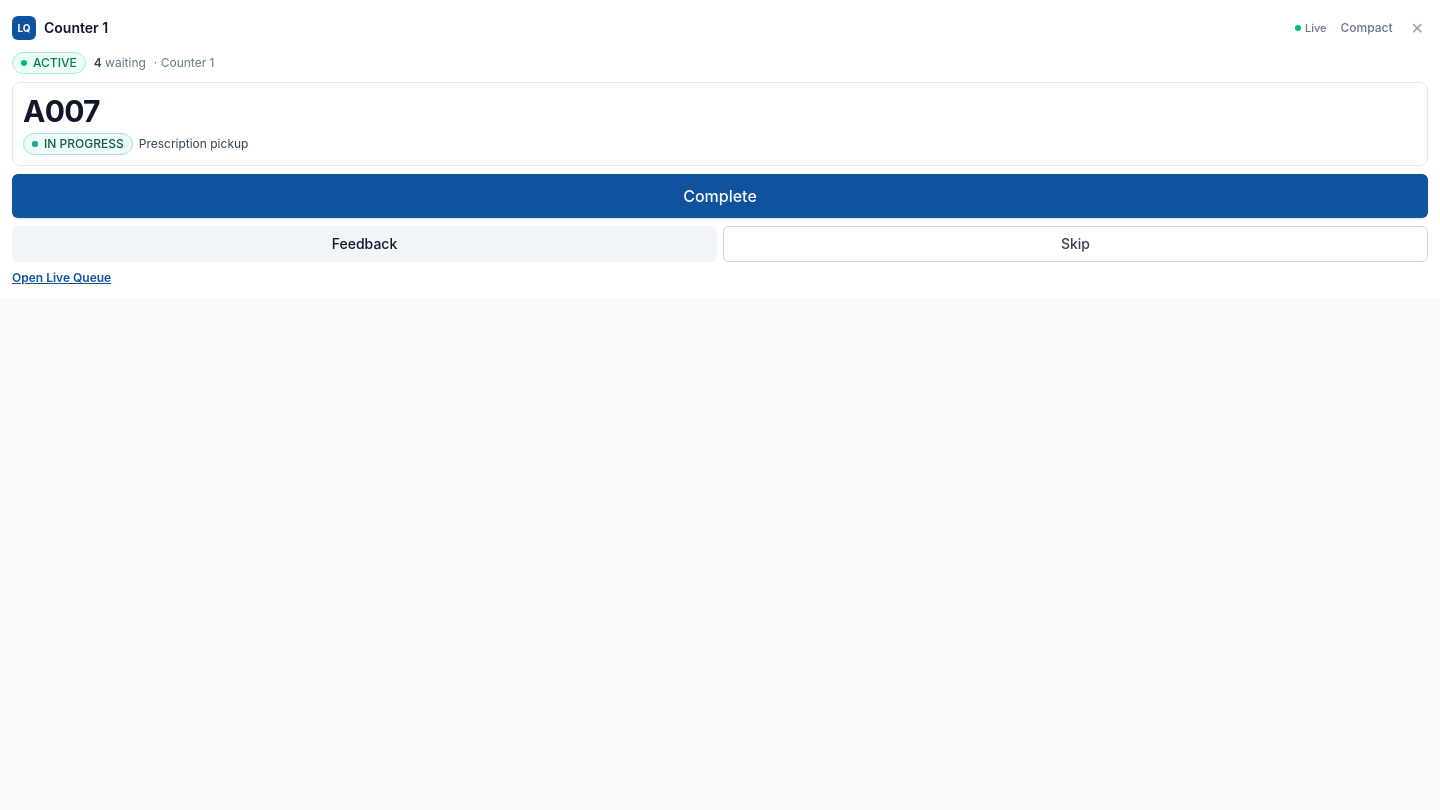
Scenario: Floating Counter Console — compact and expanded › expanded: Skip and Feedback open the existing dialogs
Click the button "Feedback".
click(364, 244)  # box [12,226,717,262]
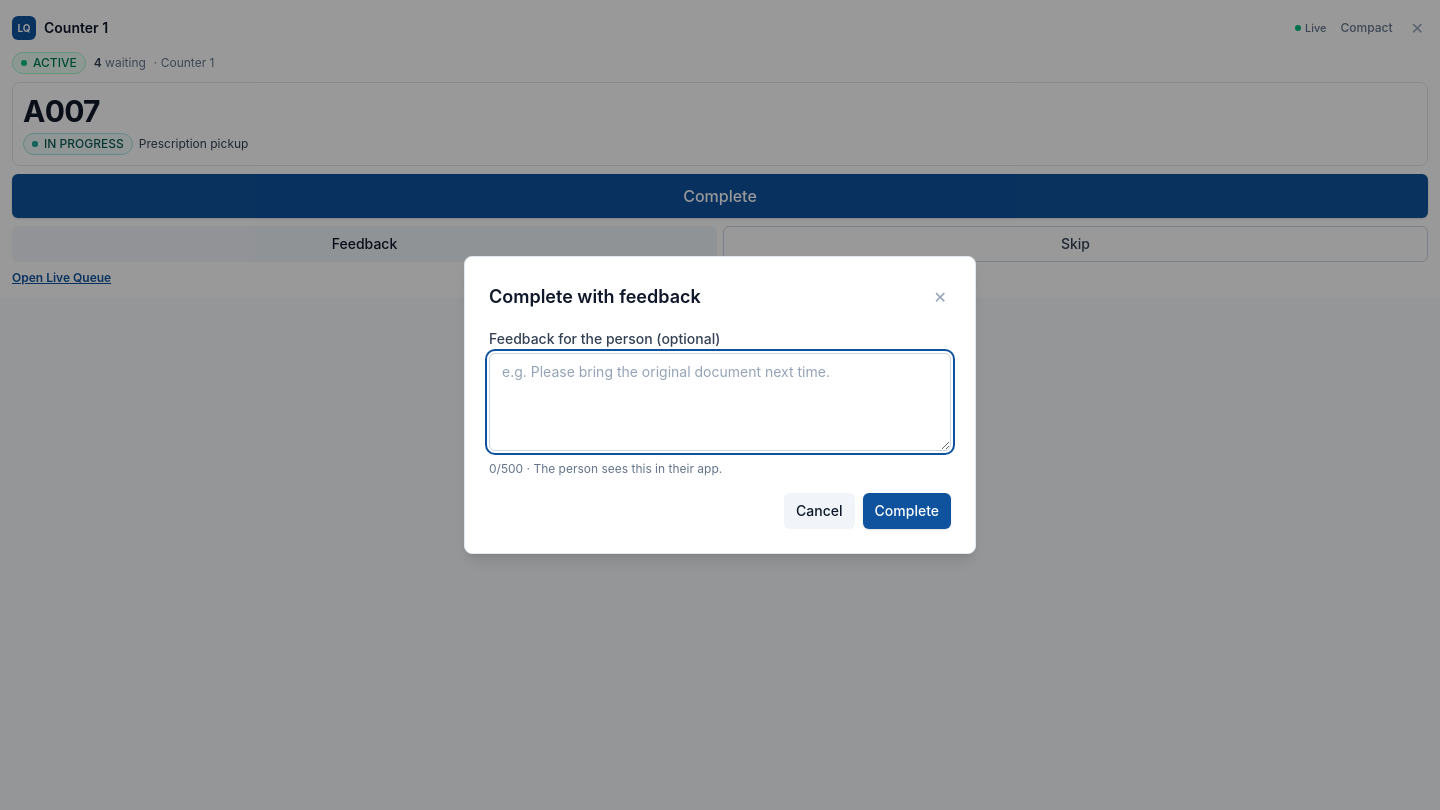
Now the dialog "Complete with feedback" is shown, box [464,256,976,554]
Click the button "Cancel".
click(819, 511)  # box [784,493,855,529]
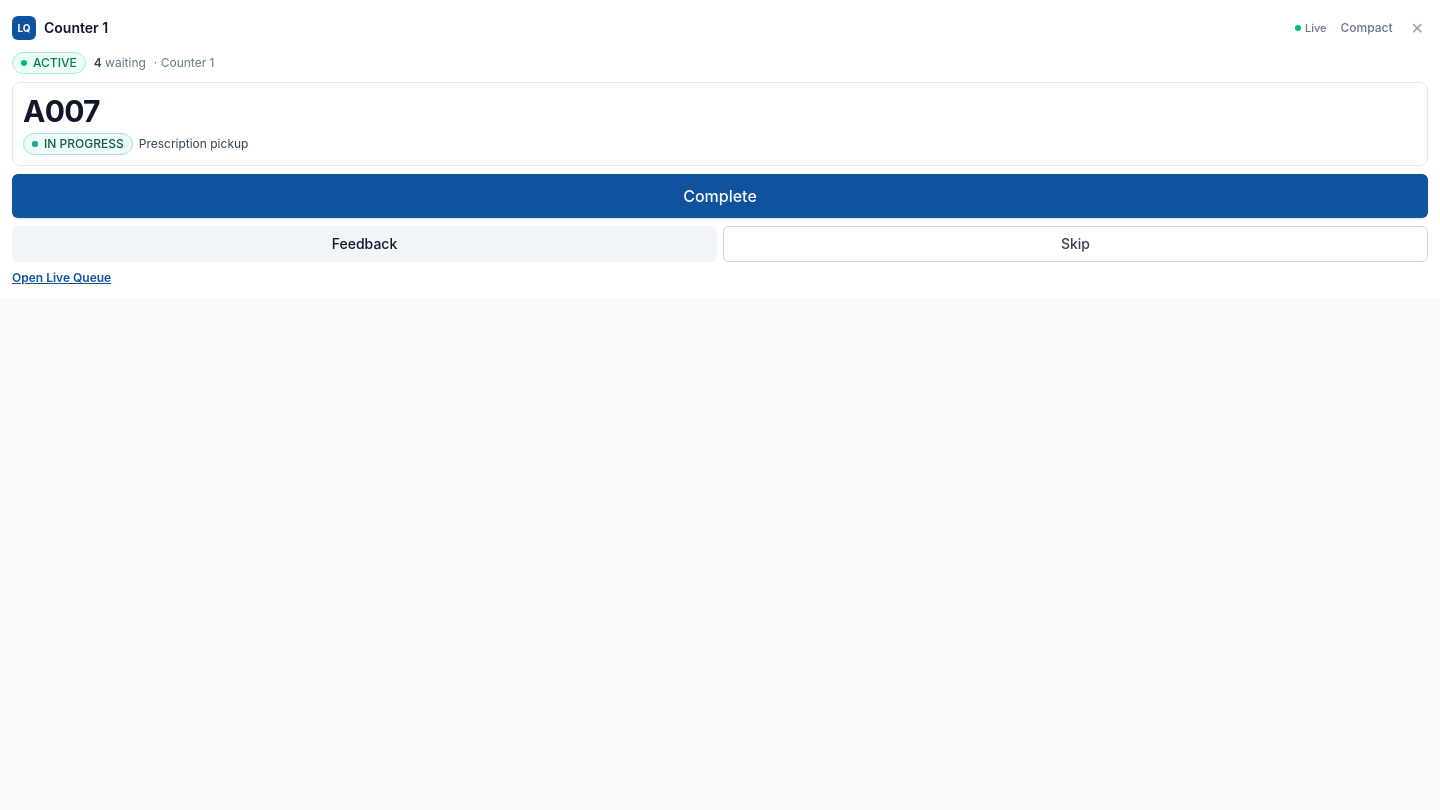
Click the button "Skip".
click(1076, 244)  # box [723,226,1428,262]
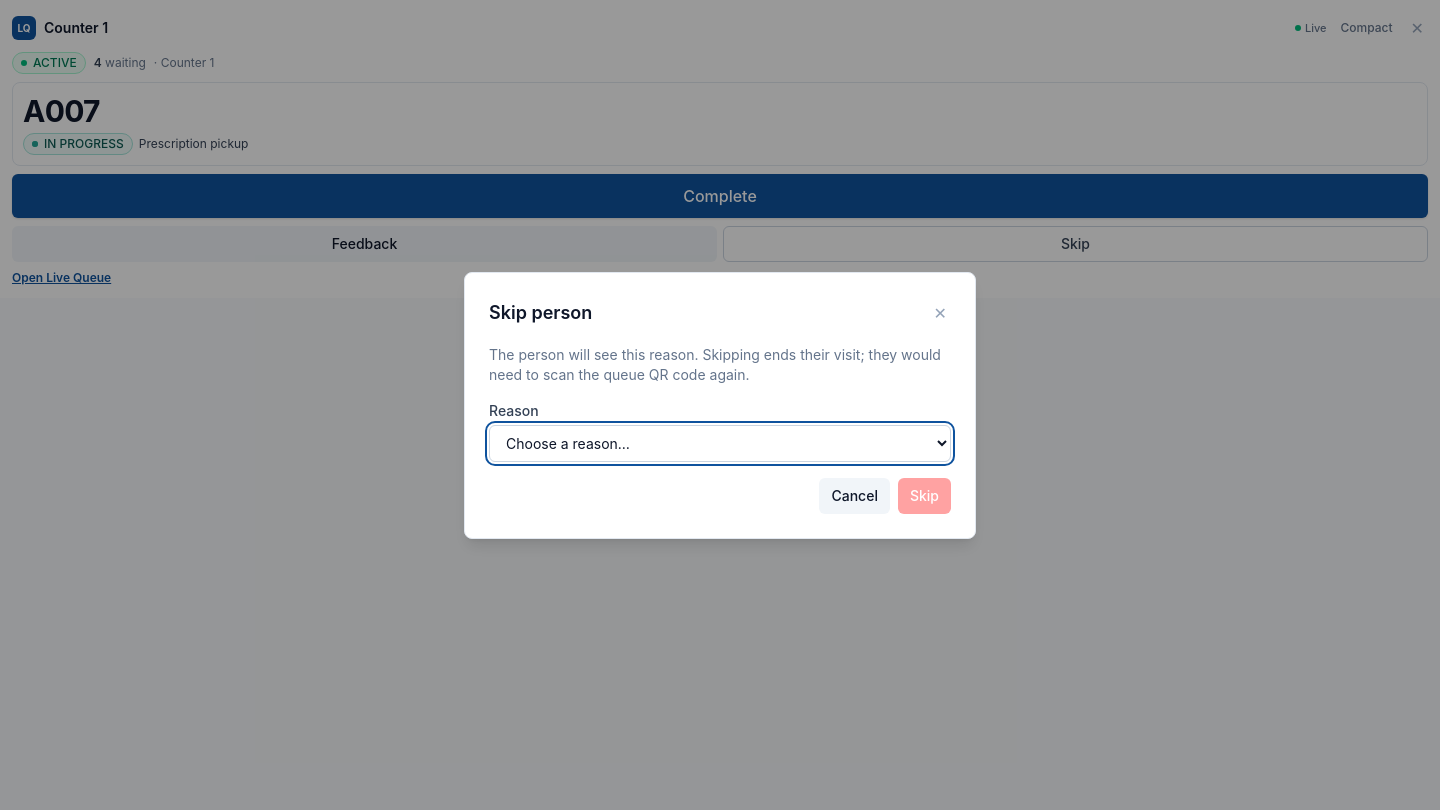
Now the dialog is shown, box [464,272,976,538]
